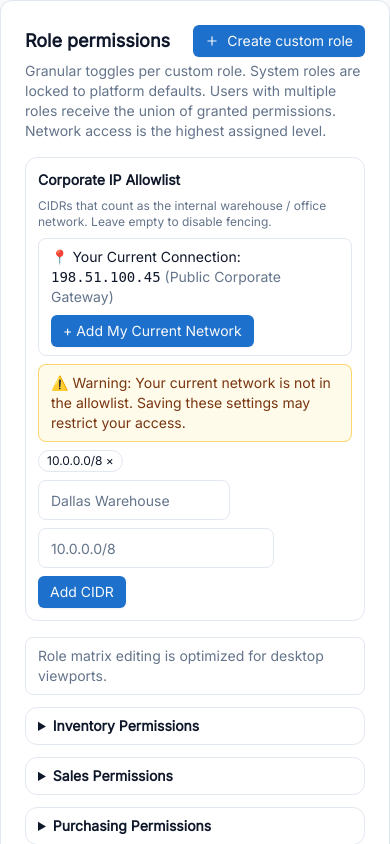
it: RolePermissionsMatrix › adds the detected current network and warns when fencing would lock the admin out
Expected: the element with test id "current-network-banner" is shown, [38,238,352,356]
Expected: the text with test id "current-network-ip" reads "198.51.100.45", [51,269,161,285]
Click the button with test id "add-current-network": [152, 331] box [51,315,254,347]
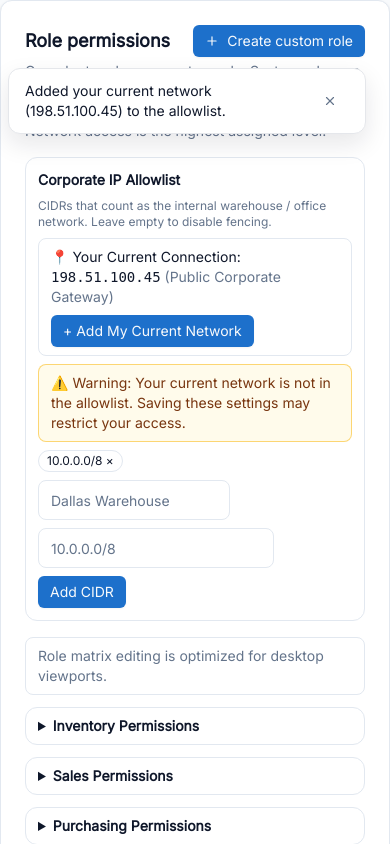
Result: the message with test id "app-toast" reads "Added your current network (198.51.100.45) to the allowlist." at [25,82,226,119]
